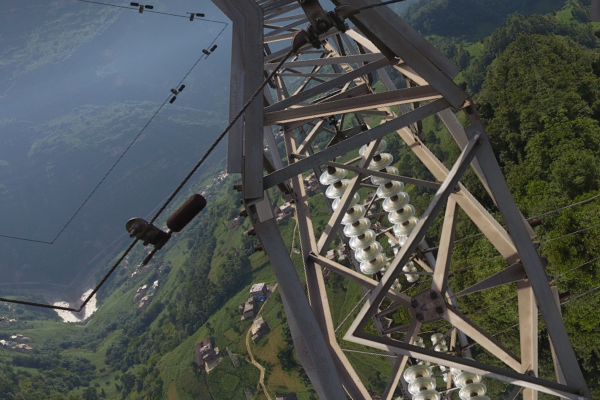damper: (167, 83, 186, 105)
damper_defect: (121, 189, 208, 270), (185, 9, 206, 24), (200, 44, 218, 61)
